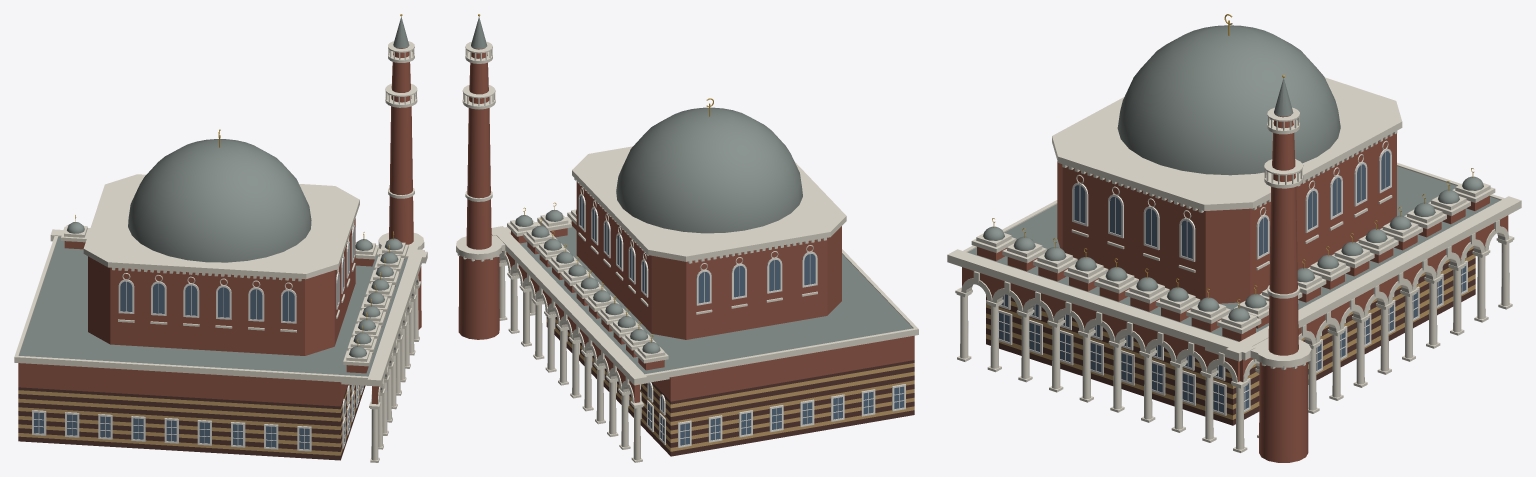
The model's file is westermoskee.glb.
3 views of the same model, side by side, from view 1: azimuth 30°, elevation 25°; view 2: azimuth 150°, elevation 25°; view 3: azimuth 270°, elevation 25° (orthographic). The views are drawn at different scales.
Visible parts, largest first — view 1: westermoskee; view 2: westermoskee; view 3: westermoskee.
Boxes of the visible parts, x1,y1,x2,y2 form: westermoskee: [14, 14, 427, 462]; westermoskee: [456, 14, 918, 462]; westermoskee: [947, 14, 1521, 462].
Bounding box in the file's own units: 47.38 × 32.87 × 45.28.
